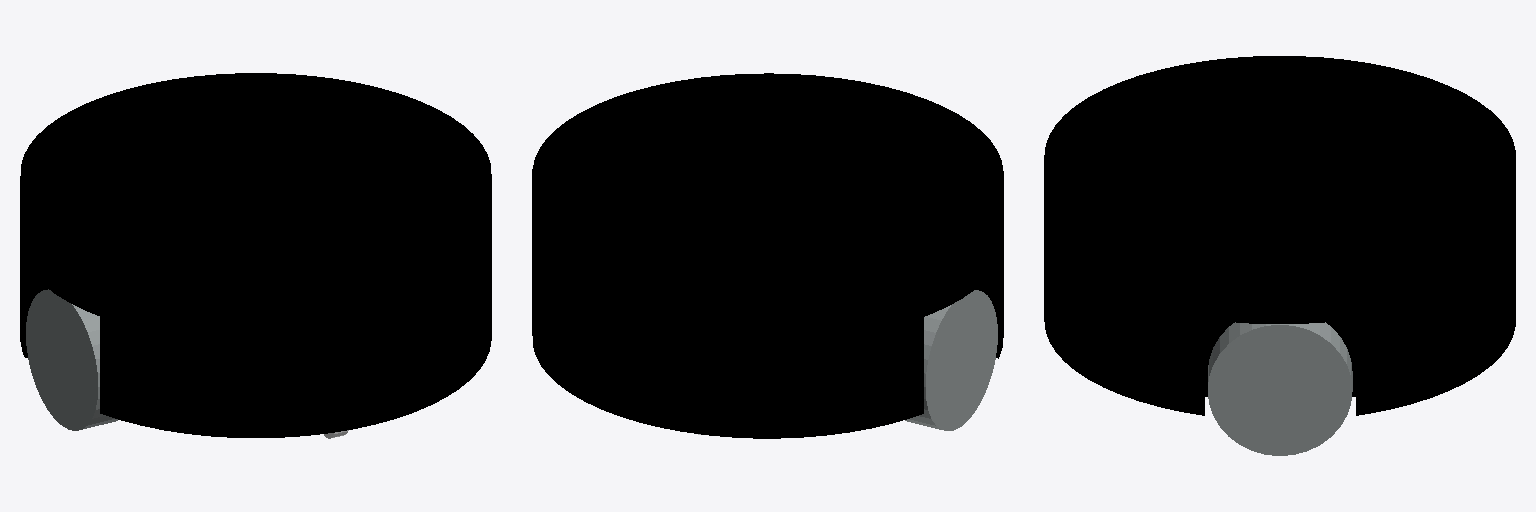
robot.urdf — mbot:
<?xml version="1.0"?>
<robot name="mbot">
  <material name="black">
    <color rgba="0 0 0 1"/>
  </material>
  <material name="gray">
    <color rgba="0.609 0.633 0.634 1.0"/>
  </material>
  <material name="white">
    <color rgba="1.0 1.0 1.0 1.0"/>
  </material>

  <link name="base_link">
    <visual>
      <geometry>
        <!-- <mesh filename="file://[local-path]/TMP/mbot/src/model/meshes/body.stl"/> -->
        <mesh filename="package://model/meshes/dashgoD1_body.stl"/>
      </geometry>
      <origin rpy="0 3.1415 1.57075" xyz="0.203 0.203 0.196 "/>
      <material name="black"/>
    </visual>
    <collision>
      <geometry>
        <mesh filename="package://model/meshes/dashgoD1_body.stl"/>
      </geometry>
      <origin rpy="0 3.1415 1.57075" xyz="0.203 0.203 0.196 "/>
    </collision>
    <inertial>
      <mass value="10.0"/>
      <inertia ixx="1.0" ixy="0.0" ixz="0.0" iyy="1.0" iyz="0.0" izz="1.0"/>
    </inertial>
  </link>
  <link name="left_leg">
    <visual>
      <geometry>
        <cylinder length="0.035" radius="0.0625"/>
      </geometry>
      <origin rpy="0 1.57075 0" xyz="0.17535 0 0"/>
      <material name="gray"/>
    </visual>
    <collision>
      <geometry>
        <cylinder length="0.035" radius="0.0625"/>
      </geometry>
      <origin rpy="0 1.57075 0" xyz="0.17535 0 0"/>
    </collision>
    <inertial>
      <mass value="10.0"/>
      <inertia ixx="1.0" ixy="0.0" ixz="0.0" iyy="1.0" iyz="0.0" izz="1.0"/>
    </inertial>
  </link>
    <link name="right_leg">
    <visual>
      <geometry>
        <cylinder length="0.035" radius="0.0625"/>
      </geometry>
      <origin rpy="0 1.57075 0" xyz="-0.17535 0 0"/>
      <material name="gray"/>
    </visual>
    <collision>
      <geometry>
        <cylinder length="0.035" radius="0.0625"/>
      </geometry>
      <origin rpy="0 1.57075 0" xyz="-0.17535 0 0"/>
    </collision>
    <inertial>
      <mass value="10.0"/>
      <inertia ixx="1.0" ixy="0.0" ixz="0.0" iyy="1.0" iyz="0.0" izz="1.0"/>
    </inertial>
  </link>
  <link name="front_support_of_steering_wheel_frame">
    <visual>
      <geometry>
        <cylinder radius="0.0025" length="0.0025"/>
      </geometry>
      <origin rpy="0 0 0" xyz="0 0 0"/>
      <material name="white"/>
    </visual>
    <collision>
      <geometry>
        <cylinder radius="0.0025" length="0.0025"/>
      </geometry>
      <origin rpy="0 0 0" xyz="0 0 0"/>
    </collision>
    <inertial>
      <mass value="10.0"/>
      <inertia ixx="1.0" ixy="0.0" ixz="0.0" iyy="1.0" iyz="0.0" izz="1.0"/>
    </inertial>
  </link>
  <link name="back_support_of_steering_wheel_frame">
    <visual>
      <geometry>
        <cylinder radius="0.0025" length="0.0025"/>
      </geometry>
      <origin rpy="0 0 0" xyz="0 0 0"/>
      <material name="white"/>
    </visual>
    <collision>
      <geometry>
        <cylinder radius="0.0025" length="0.0025"/>
      </geometry>
      <origin rpy="0 0 0" xyz="0 0 0"/>
    </collision>
    <inertial>
      <mass value="10.0"/>
      <inertia ixx="1.0" ixy="0.0" ixz="0.0" iyy="1.0" iyz="0.0" izz="1.0"/>
    </inertial>
  </link>
  <link name="front_steering_wheel_frame">
    <visual>
      <geometry>
        <mesh filename="package://model/meshes/dashgoD1_steering_wheel_frame.stl"/>
      </geometry>
      <origin rpy="1.57075 0 1.57075" xyz="-0.0095 -0.017 -0.0375"/>
    </visual>
    <collision>
      <geometry>
        <mesh filename="package://model/meshes/dashgoD1_steering_wheel_frame.stl"/>
      </geometry>
      <origin rpy="1.57075 0 1.57075" xyz="-0.0095 -0.017 -0.0375"/>
    </collision>
    <inertial>
      <mass value="10.0"/>
      <inertia ixx="1.0" ixy="0.0" ixz="0.0" iyy="1.0" iyz="0.0" izz="1.0"/>
    </inertial>
  </link>
  <link name="back_steering_wheel_frame">
    <visual>
      <geometry>
        <mesh filename="package://model/meshes/dashgoD1_steering_wheel_frame.stl"/>
      </geometry>
      <origin rpy="1.57075 0 1.57075" xyz="-0.0095 -0.017 -0.0375"/>
    </visual>
    <collision>
      <geometry>
        <mesh filename="package://model/meshes/dashgoD1_steering_wheel_frame.stl"/>
      </geometry>
      <origin rpy="1.57075 0 1.57075" xyz="-0.0095 -0.017 -0.0375"/>
    </collision>
    <inertial>
      <mass value="10.0"/>
      <inertia ixx="1.0" ixy="0.0" ixz="0.0" iyy="1.0" iyz="0.0" izz="1.0"/>
    </inertial>
  </link>
  <link name="front_steering_wheel">
    <visual>
      <geometry>
        <cylinder radius="0.0125" length="0.015"/>
      </geometry>
      <origin rpy="0 1.57075 0" xyz="0 0 0"/>
      <material name="white"/>
    </visual>
    <collision>
      <geometry>
        <cylinder radius="0.0125" length="0.015"/>
      </geometry>
      <origin rpy="0 1.57075 0" xyz="0 0 0"/>
    </collision>
    <inertial>
      <mass value="10.0"/>
      <inertia ixx="1.0" ixy="0.0" ixz="0.0" iyy="1.0" iyz="0.0" izz="1.0"/>
    </inertial>
  </link>
  <link name="back_steering_wheel">
    <visual>
      <geometry>
        <cylinder radius="0.0125" length="0.015"/>
      </geometry>
      <origin rpy="0 1.57075 0" xyz="0 0 0"/>
      <material name="white"/>
    </visual>
    <collision>
      <geometry>
        <cylinder radius="0.0125" length="0.015"/>
      </geometry>
      <origin rpy="0 1.57075 0" xyz="0 0 0"/>
    </collision>
    <inertial>
      <mass value="10.0"/>
      <inertia ixx="1.0" ixy="0.0" ixz="0.0" iyy="1.0" iyz="0.0" izz="1.0"/>
    </inertial>
  </link>

  <joint name="base_link_to_left_leg" type="continuous">
    <parent link="base_link"/>
    <child link="left_leg"/>
    <origin xyz="0 0 0.0625"/>
  </joint>
  <joint name="base_link_to_right_leg" type="continuous">
    <parent link="base_link"/>
    <child link="right_leg"/>
    <origin xyz="0 0 0.0625"/>
  </joint>
  <joint name="base_link_to_front_support_of_steering_wheel_frame" type="fixed">
    <parent link="base_link"/>
    <child link="front_support_of_steering_wheel_frame"/>
    <origin xyz="0 -0.130 0.038"/>
  </joint>
  <joint name="base_link_to_back_support_of_steering_wheel_frame" type="fixed">
    <parent link="base_link"/>
    <child link="back_support_of_steering_wheel_frame"/>
    <origin xyz="0 0.130 0.038"/>
  </joint>
  <joint name="front_support_to_front_steering_wheel_frame" type="fixed">
    <parent link="front_support_of_steering_wheel_frame"/>
    <child link="front_steering_wheel_frame"/>
    <origin xyz="0 0 0"/>
  </joint>
  <joint name="back_support_to_front_steering_wheel_frame" type="fixed">
    <parent link="back_support_of_steering_wheel_frame"/>
    <child link="back_steering_wheel_frame"/>
    <origin xyz="0 0 0"/>
  </joint>
  <joint name="front_steering_wheel_frame_to_wheel" type="continuous">
    <parent link="front_steering_wheel_frame"/>
    <child link="front_steering_wheel"/>
    <origin xyz="0.0 -0.005 -0.0255"/>
  </joint>
  <joint name="back_steering_wheel_frame_to_wheel" type="continuous">
    <parent link="back_steering_wheel_frame"/>
    <child link="back_steering_wheel"/>
    <origin xyz="0.0 -0.005 -0.0255"/>
  </joint>

</robot>

--- Facts derived from the render (not from the file) ---
Views: 3 orthographic renders of the robot side by side, from view 1: azimuth 30°, elevation 25°; view 2: azimuth 150°, elevation 25°; view 3: azimuth 270°, elevation 25°.
Robot: mbot — 9 links, 8 joints (4 continuous, 4 fixed); root link base_link; default pose: all joints at 0.
Links seen in each view (by area): view 1: base_link, right_leg; view 2: base_link, right_leg; view 3: base_link, left_leg.
Boxes of the visible links, x1,y1,x2,y2 form: base_link: (20, 73, 491, 437); right_leg: (26, 289, 117, 430); base_link: (532, 73, 1003, 438); right_leg: (905, 290, 997, 430); base_link: (1044, 56, 1515, 415); left_leg: (1208, 322, 1352, 455).
Size in the robot's own frame: 0.4059 by 0.4057 by 0.196 metres.
3 mesh visuals loaded from 2 distinct referenced files (2 binary STL).